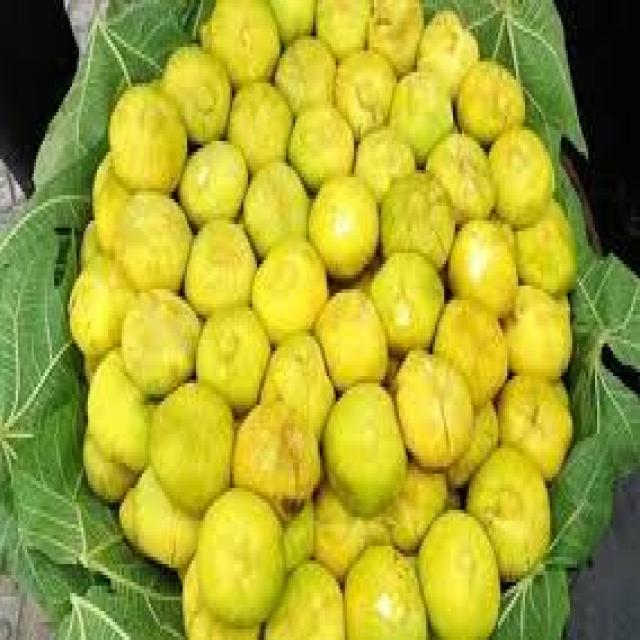organic waste: (464, 441, 550, 579), (230, 394, 322, 521), (147, 376, 232, 513), (194, 488, 282, 618), (322, 376, 403, 513), (417, 506, 498, 636), (392, 344, 471, 466), (106, 80, 187, 192), (115, 463, 198, 571), (311, 470, 390, 579), (430, 293, 505, 405), (120, 286, 200, 390), (257, 329, 333, 438), (194, 300, 270, 409), (494, 368, 570, 474), (83, 344, 149, 466), (110, 188, 192, 286), (342, 539, 423, 636), (246, 232, 324, 332), (304, 170, 376, 275), (442, 213, 516, 314), (379, 166, 453, 264), (311, 286, 385, 383), (65, 250, 133, 354), (196, 0, 279, 83), (369, 250, 442, 344), (498, 282, 570, 376), (162, 40, 228, 141), (180, 550, 257, 636), (182, 214, 252, 308), (262, 554, 341, 636), (484, 123, 550, 221), (241, 156, 307, 250), (512, 195, 574, 293), (426, 127, 493, 217), (178, 134, 248, 217), (390, 61, 451, 156), (286, 102, 352, 185), (225, 80, 291, 162), (388, 456, 448, 546), (414, 0, 476, 87), (453, 58, 521, 137), (331, 47, 392, 134), (270, 29, 334, 105), (352, 123, 410, 199), (81, 430, 140, 503), (90, 148, 131, 246), (365, 0, 421, 69), (448, 398, 494, 481), (277, 492, 311, 568), (313, 0, 363, 51), (266, 0, 315, 40), (77, 217, 99, 257)
